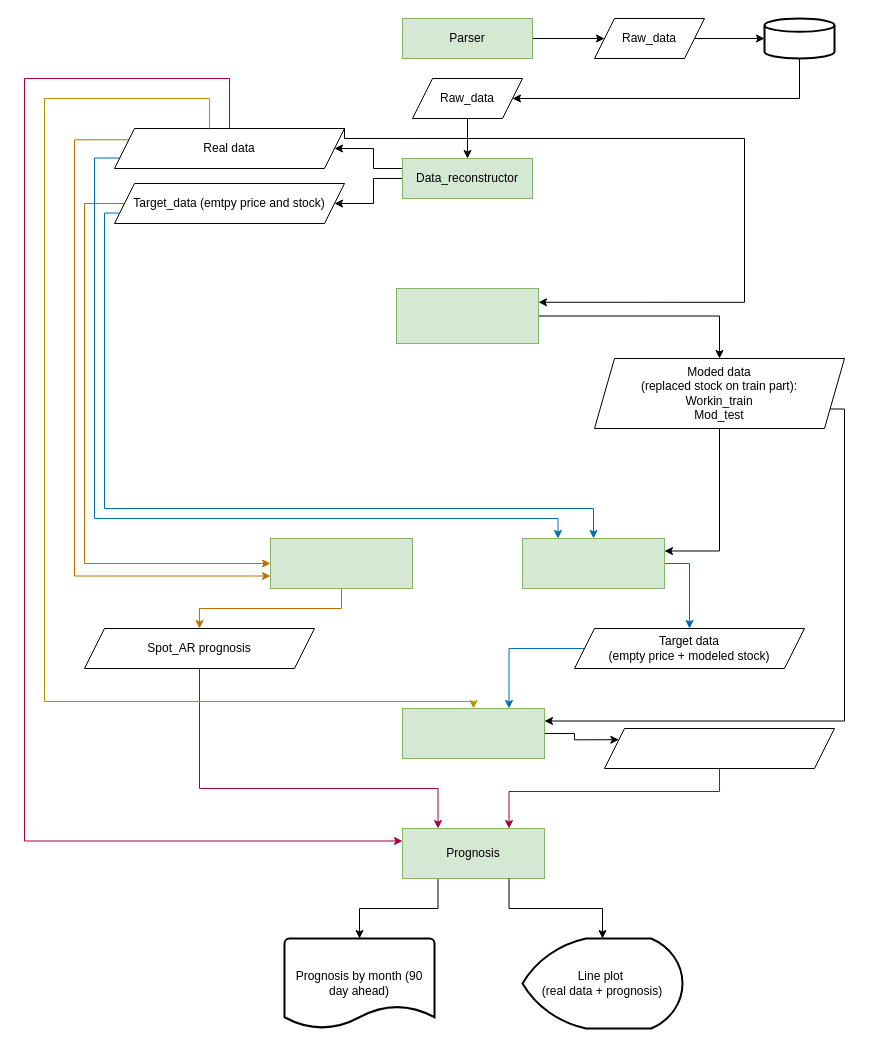
This 870x1046 diagram has some shape labels left out. Here are the shapes that lost their labels. From the top down, the centre of each, then its label:
pixel 799 38: Data_base
pixel 467 316: GARCH Variance_pred for stock and spot
pixel 341 563: Spot_AR (on real data + target data)
pixel 593 563: Stock_AR (on real data + target data + variance)
pixel 473 733: Spot_DT (Real data + target data)
pixel 719 748: Spot_DT prognosis
